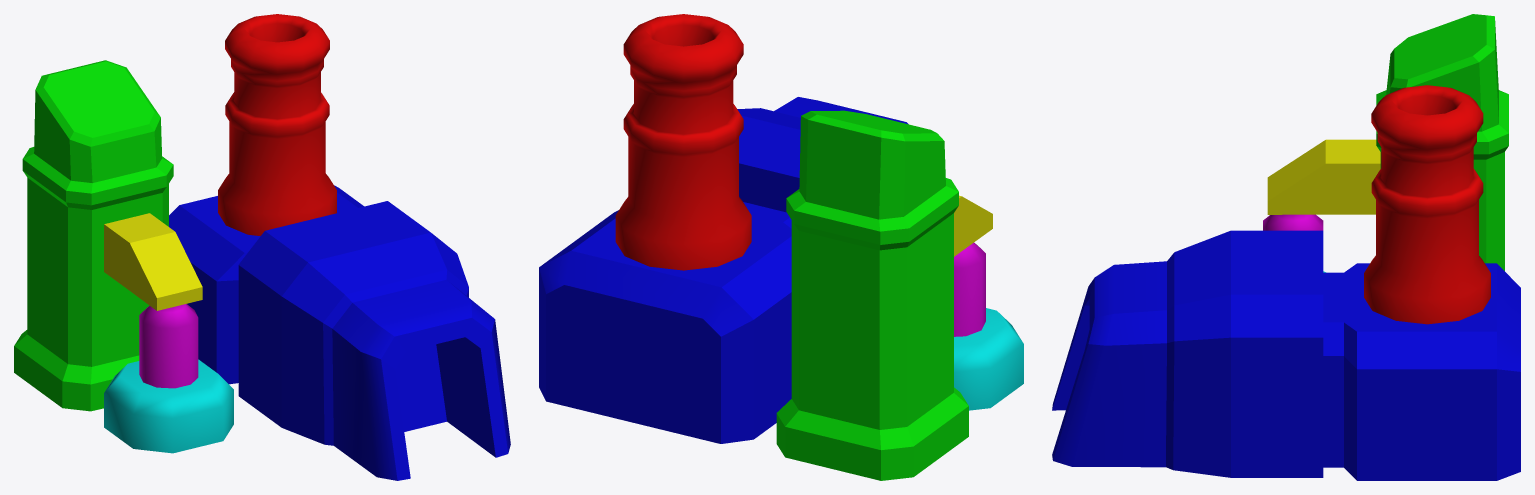
File: Refinery.fbx
3 renders of one model, left to right at view 1: azimuth 30°, elevation 25°; view 2: azimuth 150°, elevation 25°; view 3: azimuth 270°, elevation 25°, orthographic. The views are drawn at different scales.
Visible parts, largest first — view 1: refinery; view 2: refinery; view 3: refinery.
Part boxes in pixels (x1=…): refinery: x1=14, y1=14, x2=510, y2=480; refinery: x1=539, y1=14, x2=1023, y2=480; refinery: x1=1052, y1=14, x2=1520, y2=480.
Size of the model in its own units: 3.73 by 3.41 by 4.35.
